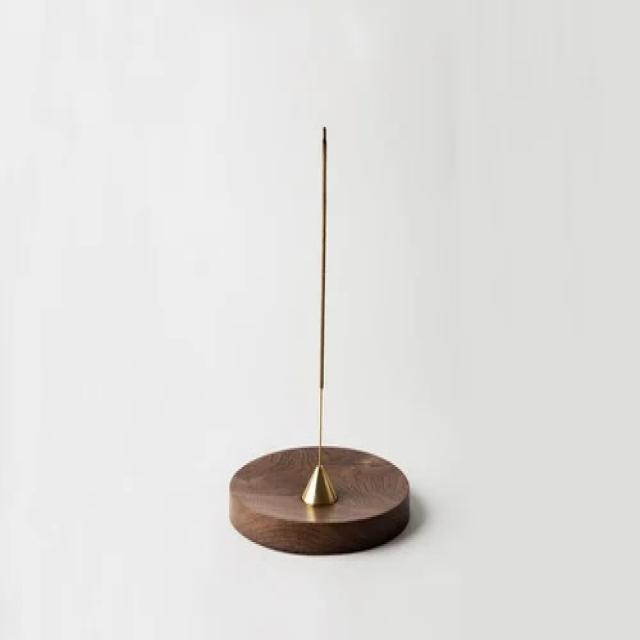Agarbatti: (311, 113, 341, 464)
